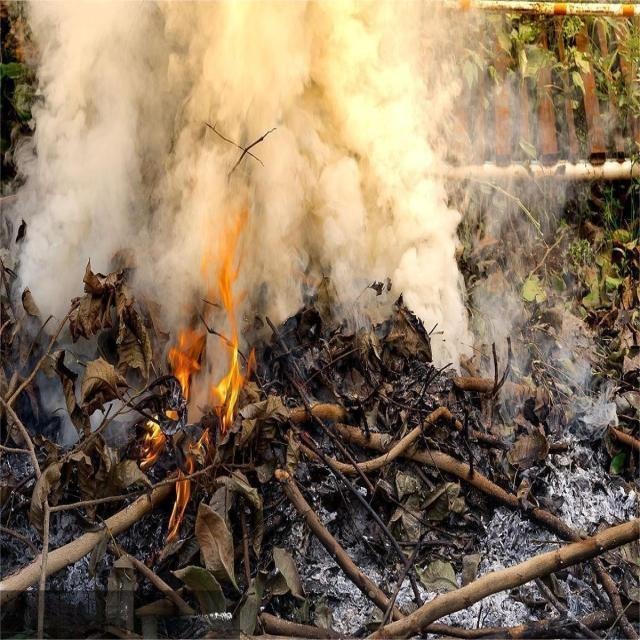Fire: (208, 203, 256, 434), (165, 333, 203, 405), (140, 412, 178, 468), (164, 470, 191, 540)
Smoke: (4, 0, 474, 359)
